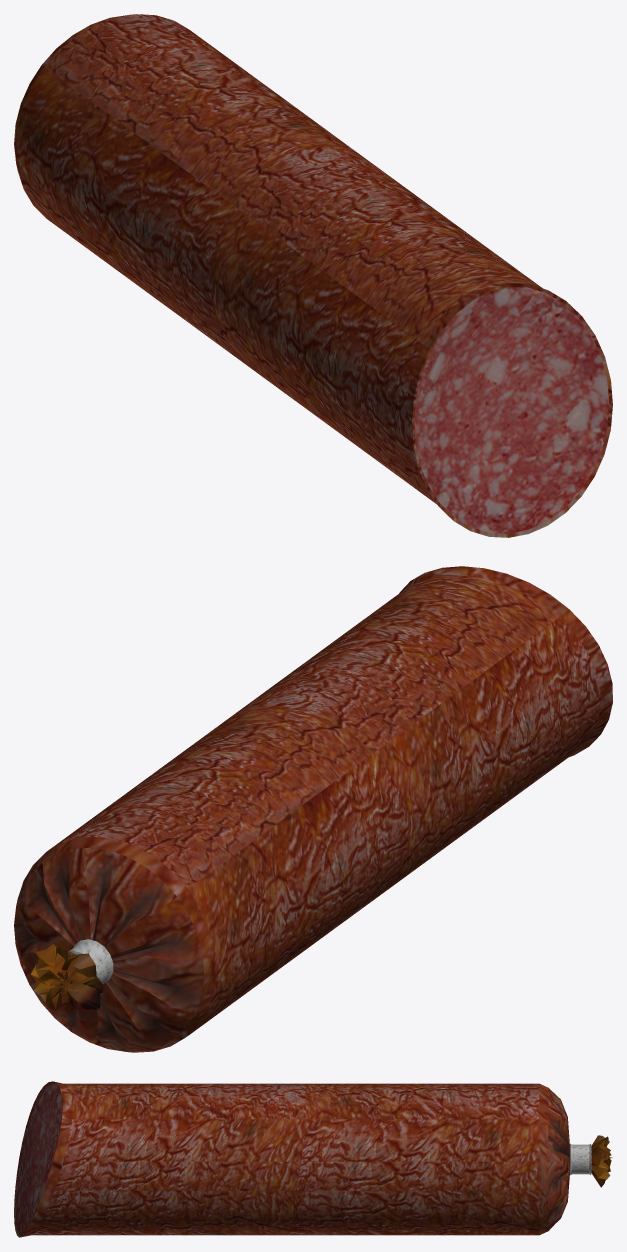
The model's file is Salami.fbx.
3 renders of one model, top to bottom at view 1: azimuth 30°, elevation 25°; view 2: azimuth 150°, elevation 25°; view 3: azimuth 270°, elevation 25°, orthographic. The views are drawn at different scales.
Parts seen in each view (by area): view 1: 5_Salami; view 2: 5_Salami; view 3: 5_Salami.
Boxes of the visible parts, x1,y1,x2,y2 form: 5_Salami: (14, 14, 612, 537); 5_Salami: (14, 566, 612, 1052); 5_Salami: (14, 1081, 612, 1237).
Size of the model in its own units: 9.79 by 9.79 by 37.5.
